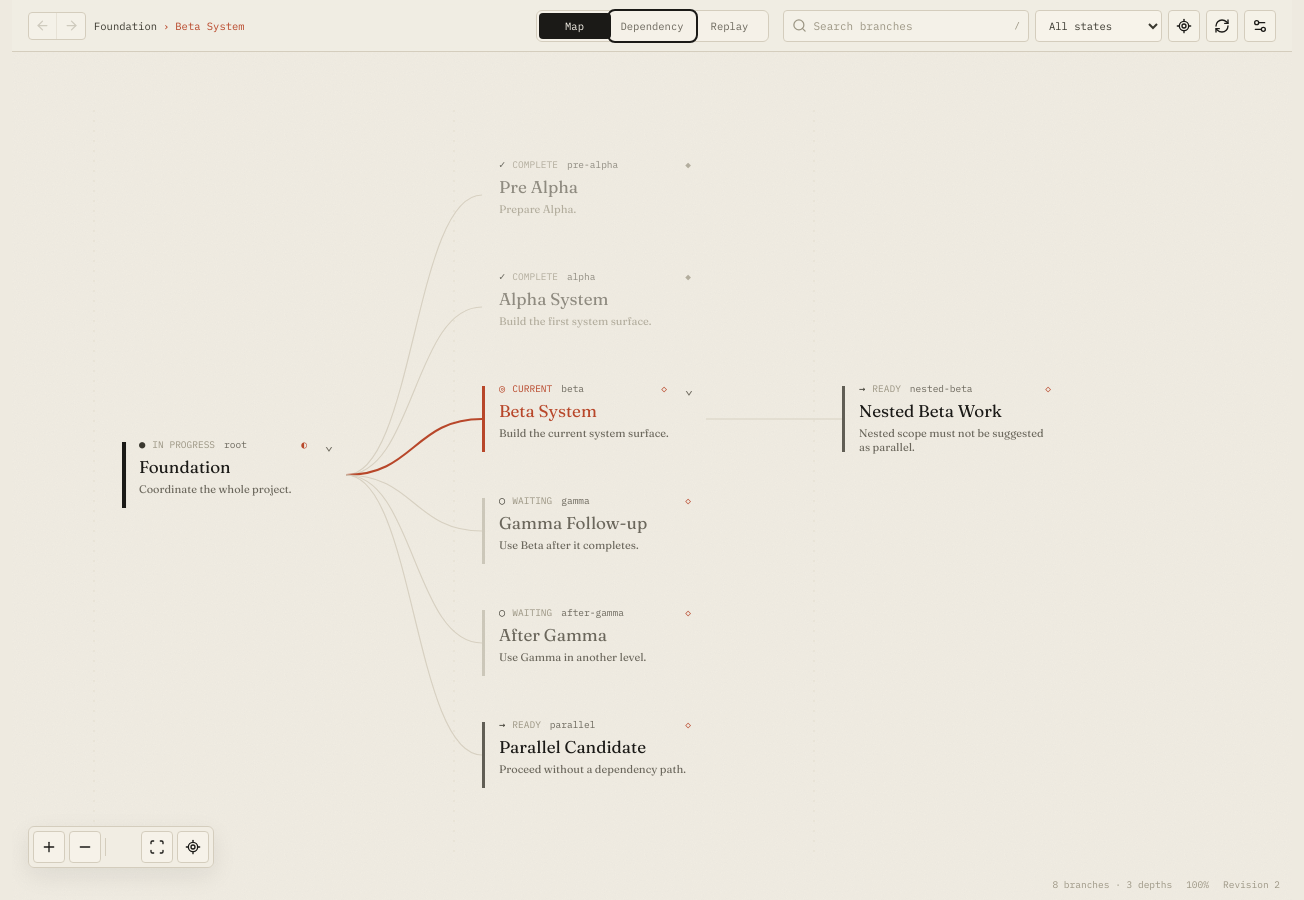
Test case: Project Map application › keeps App shortcuts unmodified and outside interactive controls
Press / in the button "Dependency", box [610, 12, 694, 38]
Press /
Press /
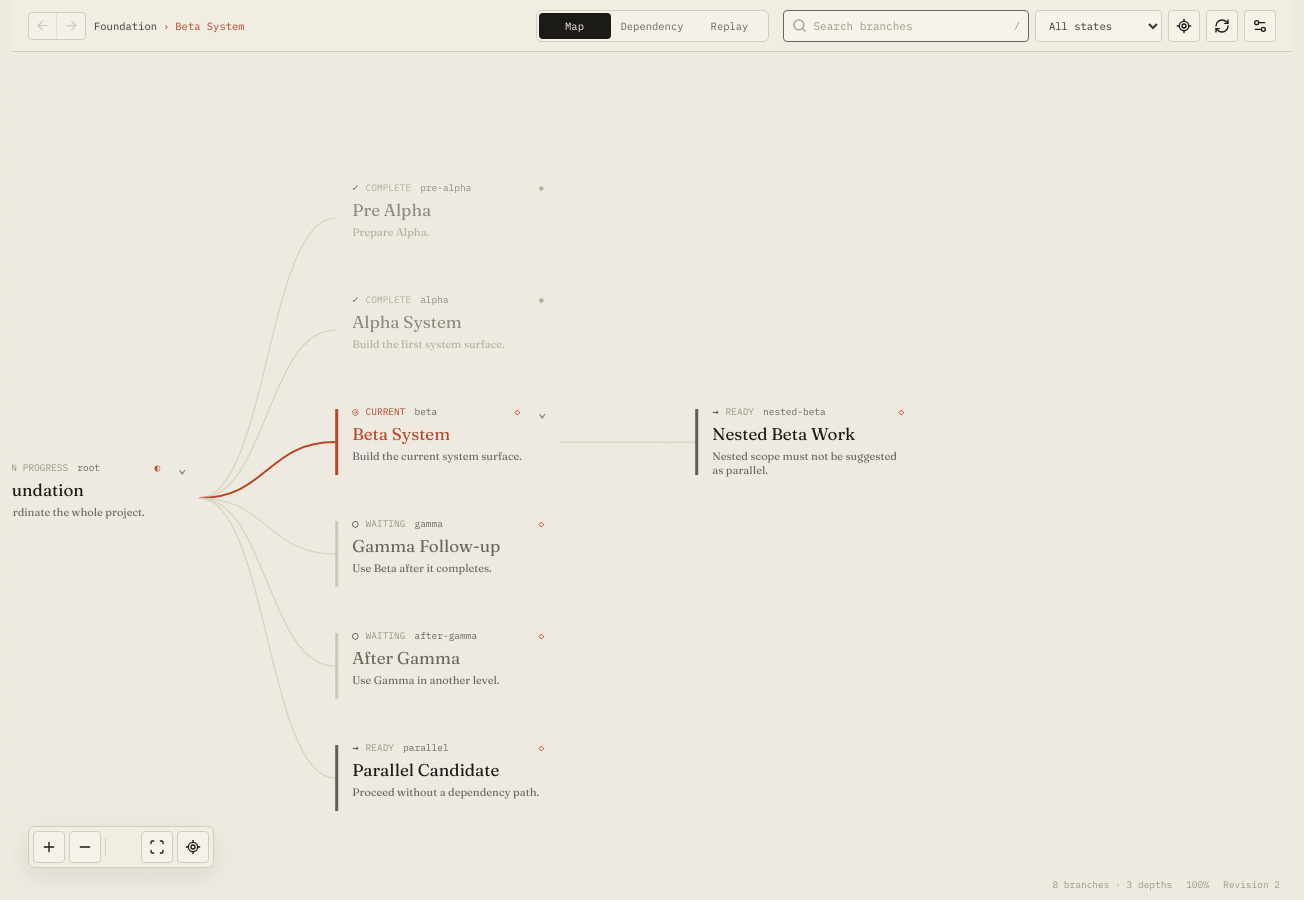
Click the button "Dependency".
click(652, 26)  # box [610, 12, 694, 38]
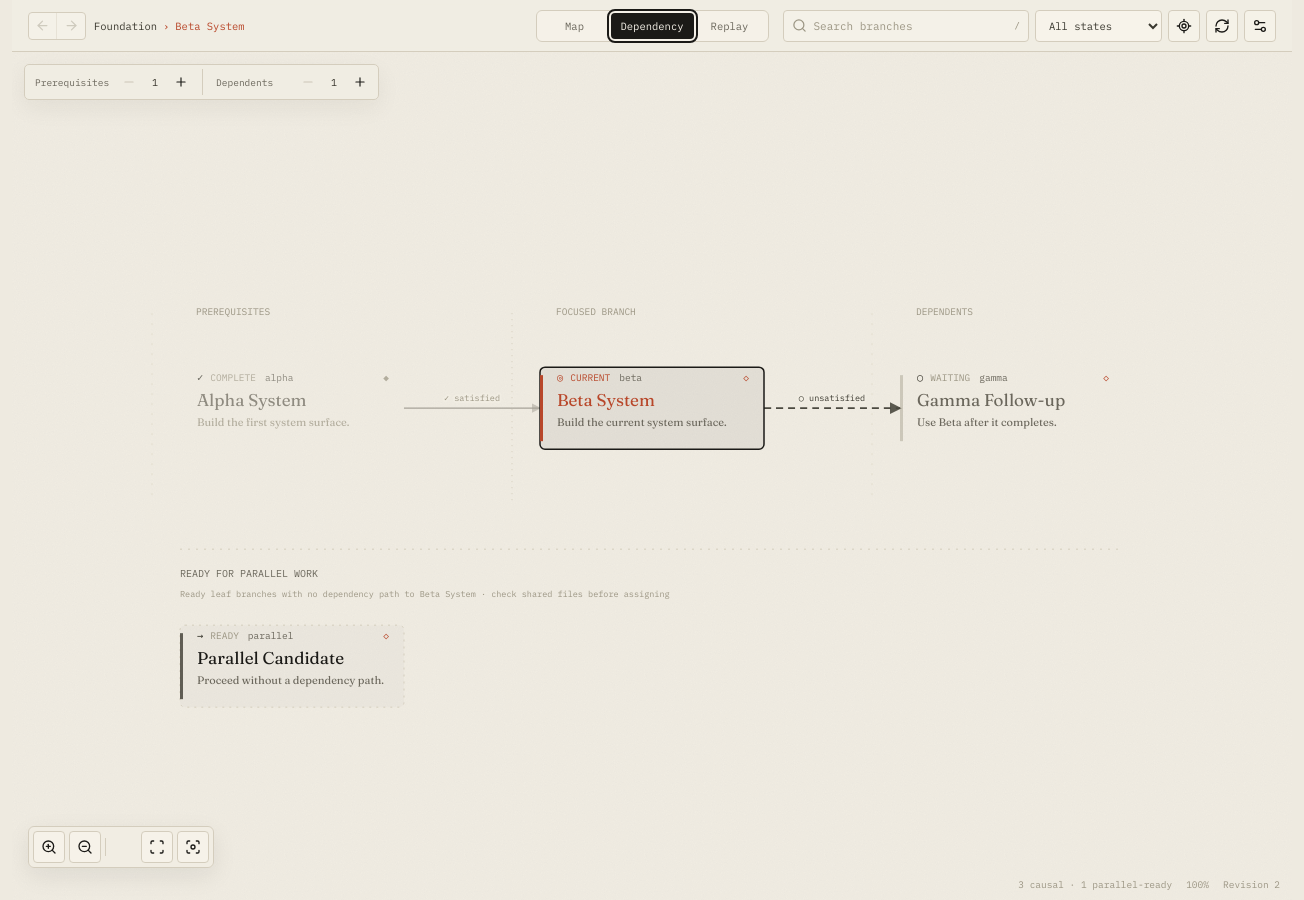
Expected: the element with test id "dependency-surface" is shown
Press l
Press l
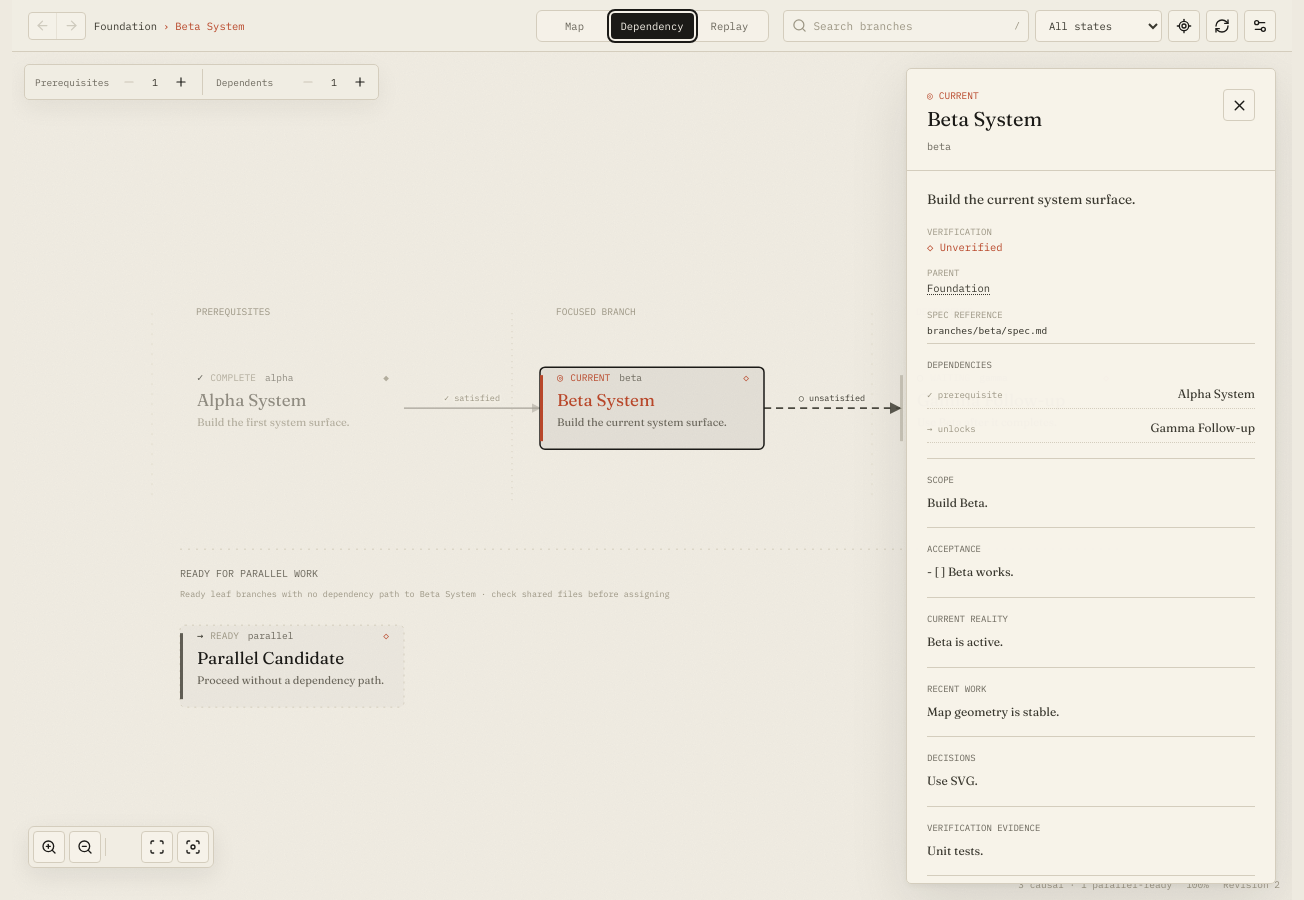
Expected: the element named "Branch details for Beta System" is shown, [906, 68, 1276, 884]
